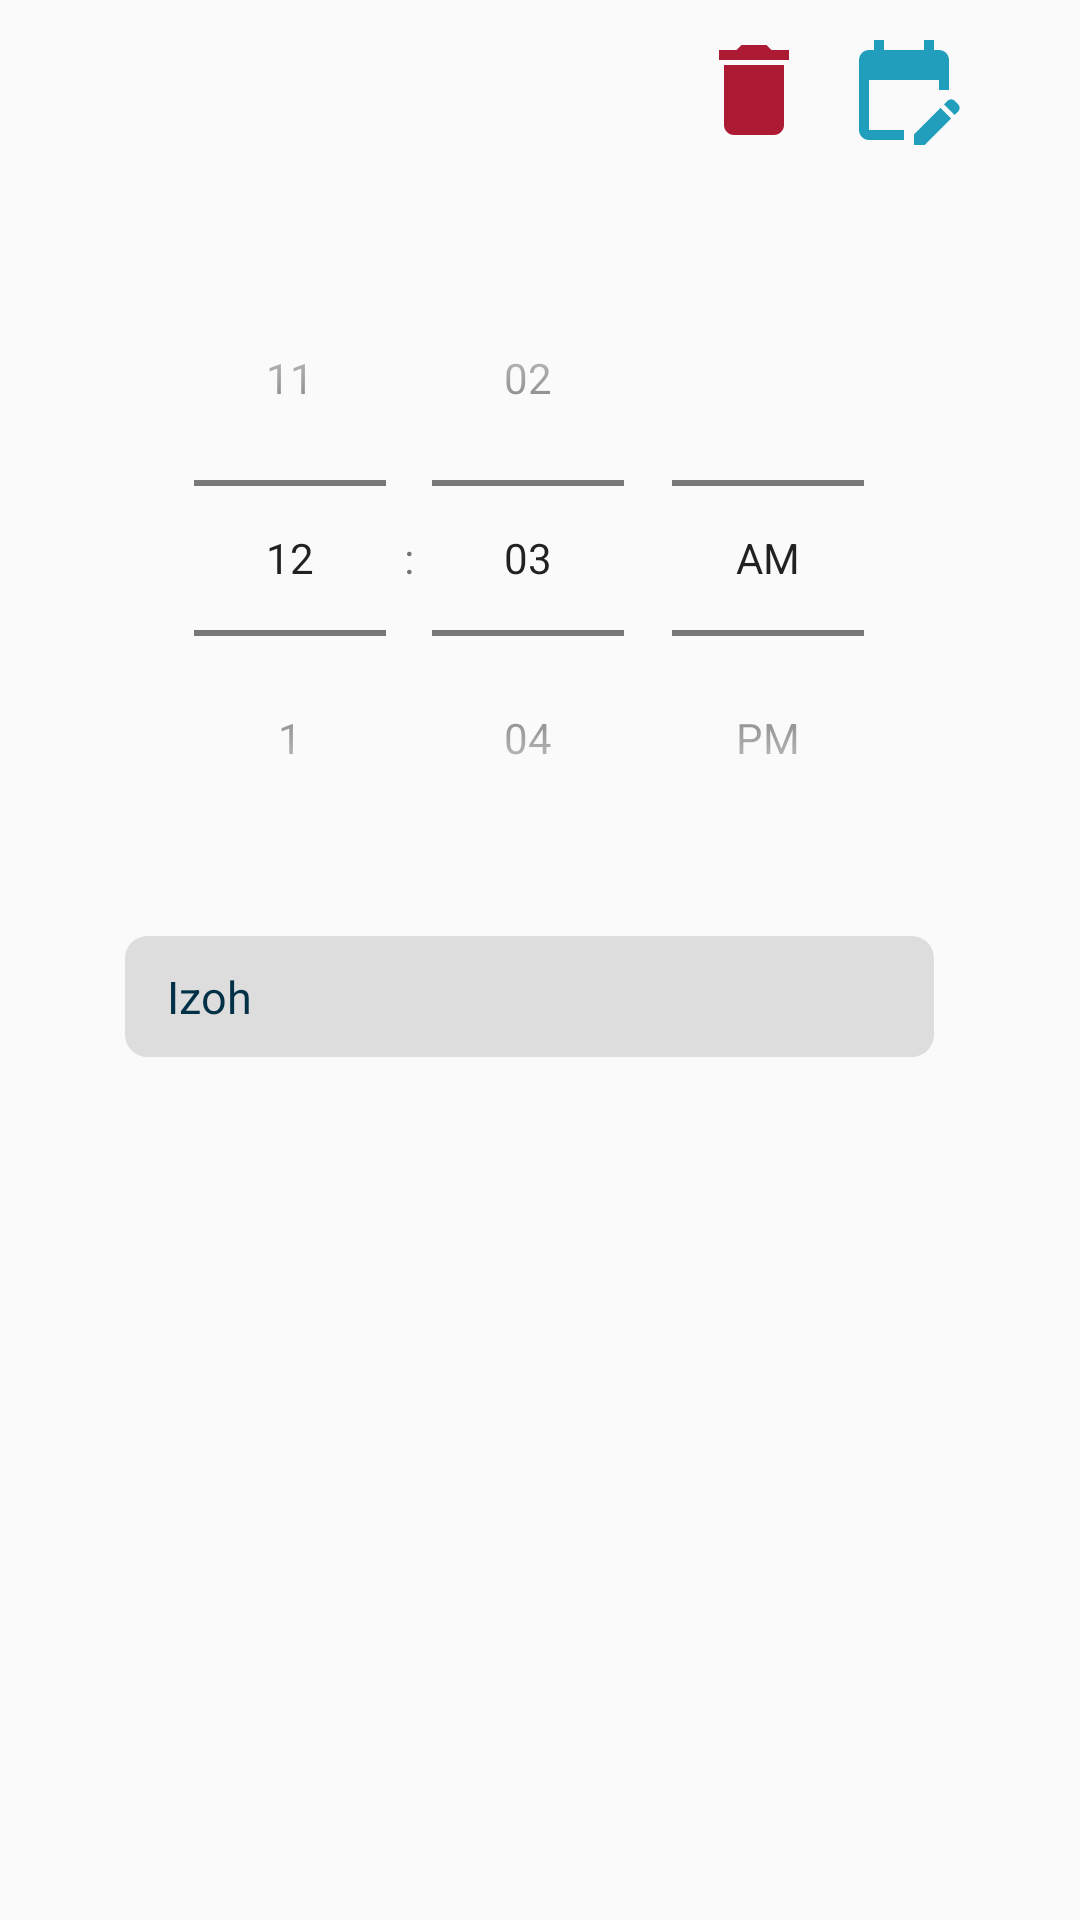

Icons on this 1080w x 1920h Android screen, each with its box as (x1, y1, x2, y2):
delete: (719, 45, 789, 135)
edit: (859, 40, 960, 145)
